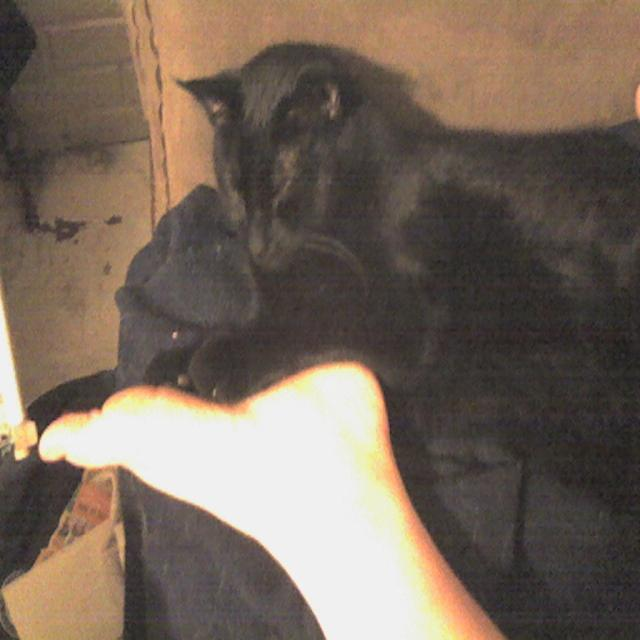Cat: (148, 35, 638, 502)
